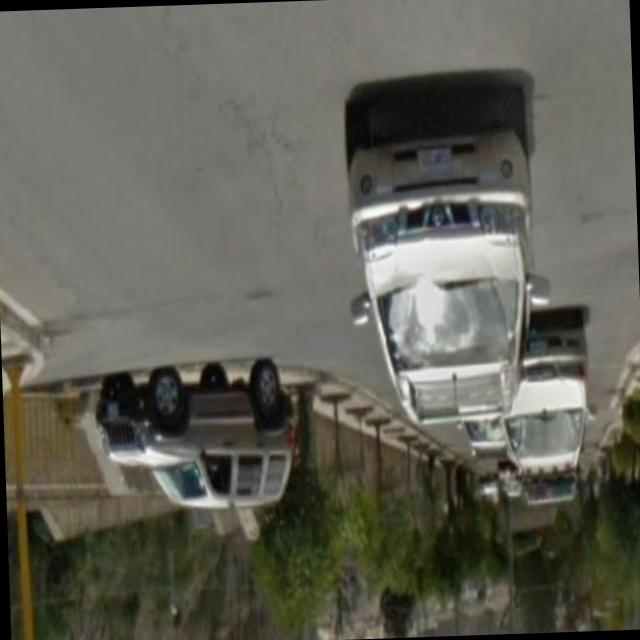car: (351, 67, 541, 410), (95, 362, 298, 520), (514, 316, 596, 489)
